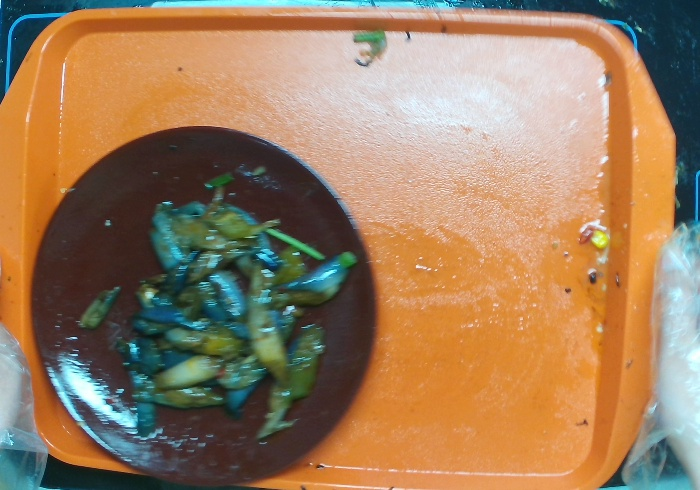HZYJPL-Ka_Fei_Yuan_Pan: (30, 123, 374, 488)
